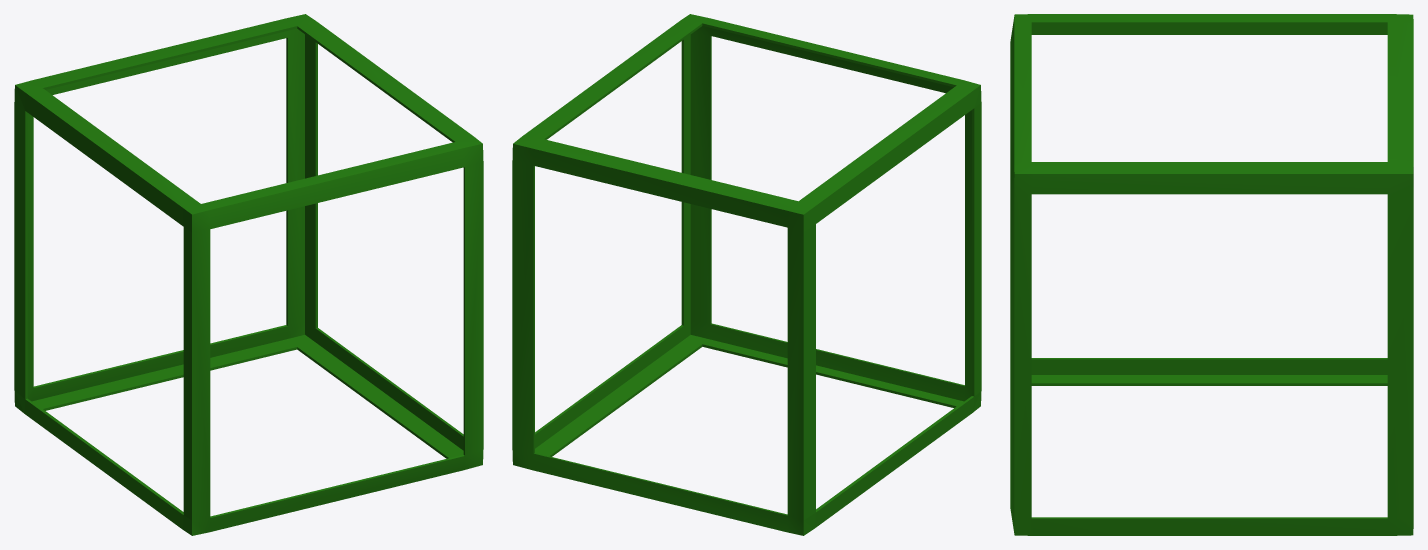
File: cubo2.FBX
3 renders of one model, left to right at view 1: azimuth 30°, elevation 25°; view 2: azimuth 150°, elevation 25°; view 3: azimuth 270°, elevation 25°, orthographic. The views are drawn at different scales.
Visible parts, largest first — view 1: Box003; view 2: Box003; view 3: Box003.
Boxes of the visible parts, x1,y1,x2,y2 form: Box003: (14,14,483,535); Box003: (512,14,981,535); Box003: (1010,14,1413,535).
Size of the model in its own units: 28.88 by 30.48 by 30.64.
